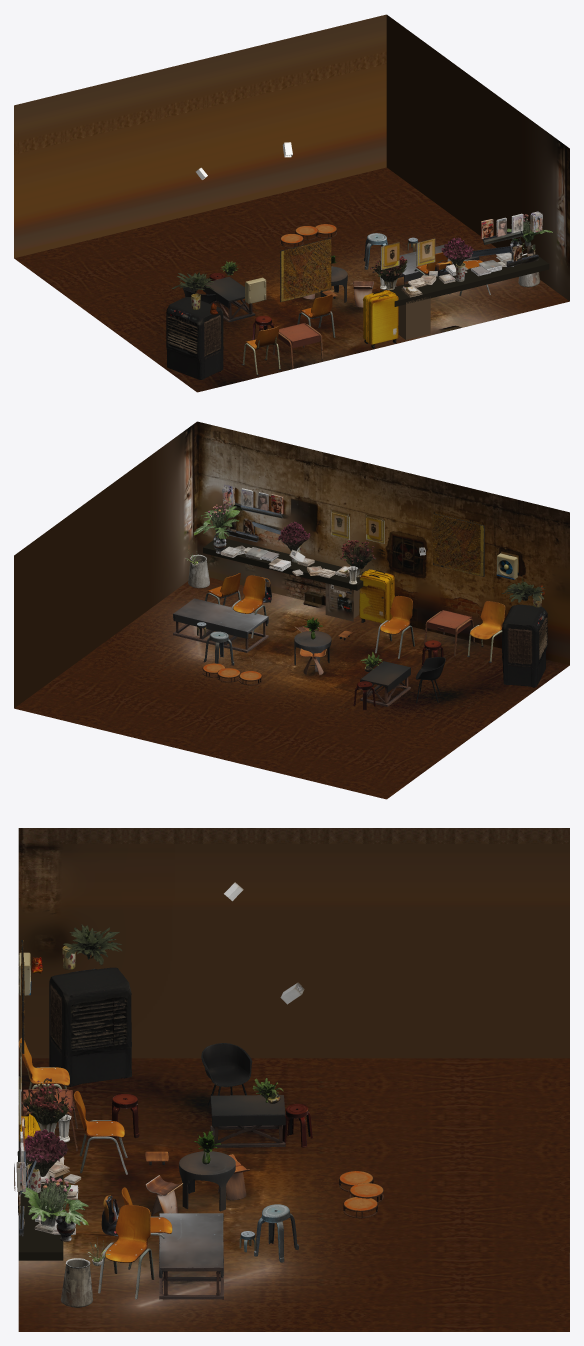
Rendered from scene_lite.glb.
3 renders of one model, top to bottom at view 1: azimuth 30°, elevation 25°; view 2: azimuth 150°, elevation 25°; view 3: azimuth 270°, elevation 25°, orthographic. The views are drawn at different scales.
Parts seen in each view (by area): view 1: room_wall_z_min, room_floor, room_wall_x_max, 001_air_conditioner, 002_artwork, 054_shelving_unit, 043_luggage, 034_coffee_table, room_builtin_00_body, 055_side_table, 027_chair, 024_chair (+6 smaller); view 2: room_floor, room_wall_z_max, room_wall_x_max, 001_air_conditioner, 002_artwork, 033_coffee_table, 054_shelving_unit, 043_luggage, 034_coffee_table, 024_chair, 027_chair, 030_chair (+12 smaller); view 3: room_floor, room_wall_x_min, 001_air_conditioner, 033_coffee_table, 034_coffee_table, 025_chair, 026_chair, 035_dining_table, 054_shelving_unit, 047_plant, 045_plant, 067_vase (+9 smaller).
Part boxes in pixels (x1,y1,x2,y2): room_wall_z_min: (14,14,386,258); room_floor: (14,167,569,392); room_wall_x_max: (386,15,569,301); 001_air_conditioner: (166,297,223,379); 002_artwork: (280,238,331,302); 054_shelving_unit: (380,254,549,306); 043_luggage: (363,290,398,348); 034_coffee_table: (203,276,255,322); room_builtin_00_body: (398,297,430,339); 055_side_table: (272,323,323,368); 027_chair: (241,326,280,375); 024_chair: (297,294,335,337); room_floor: (14,577,569,799); room_wall_z_max: (197,421,569,665); room_wall_x_max: (14,422,197,708); 001_air_conditioner: (502,604,547,687); 002_artwork: (432,513,484,576); 033_coffee_table: (173,598,268,652); 054_shelving_unit: (203,537,363,590); 043_luggage: (359,569,394,623); 034_coffee_table: (360,661,410,706); 024_chair: (375,595,414,658); 027_chair: (467,601,505,662); 030_chair: (231,575,267,638); room_floor: (18,1058,569,1331); room_wall_x_min: (18,828,569,1058); 001_air_conditioner: (49,967,131,1086); 033_coffee_table: (159,1213,223,1299); 034_coffee_table: (210,1095,285,1147); 025_chair: (98,1204,154,1299); 026_chair: (201,1043,252,1107); 035_dining_table: (179,1151,235,1211); 054_shelving_unit: (18,1139,63,1260); 047_plant: (21,1177,88,1226); 045_plant: (21,1078,74,1134); 067_vase: (60,1258,92,1307).
Size of the model in its own units: 2.46 by 0.9661 by 2.11.
72 materials, 72 textured.
